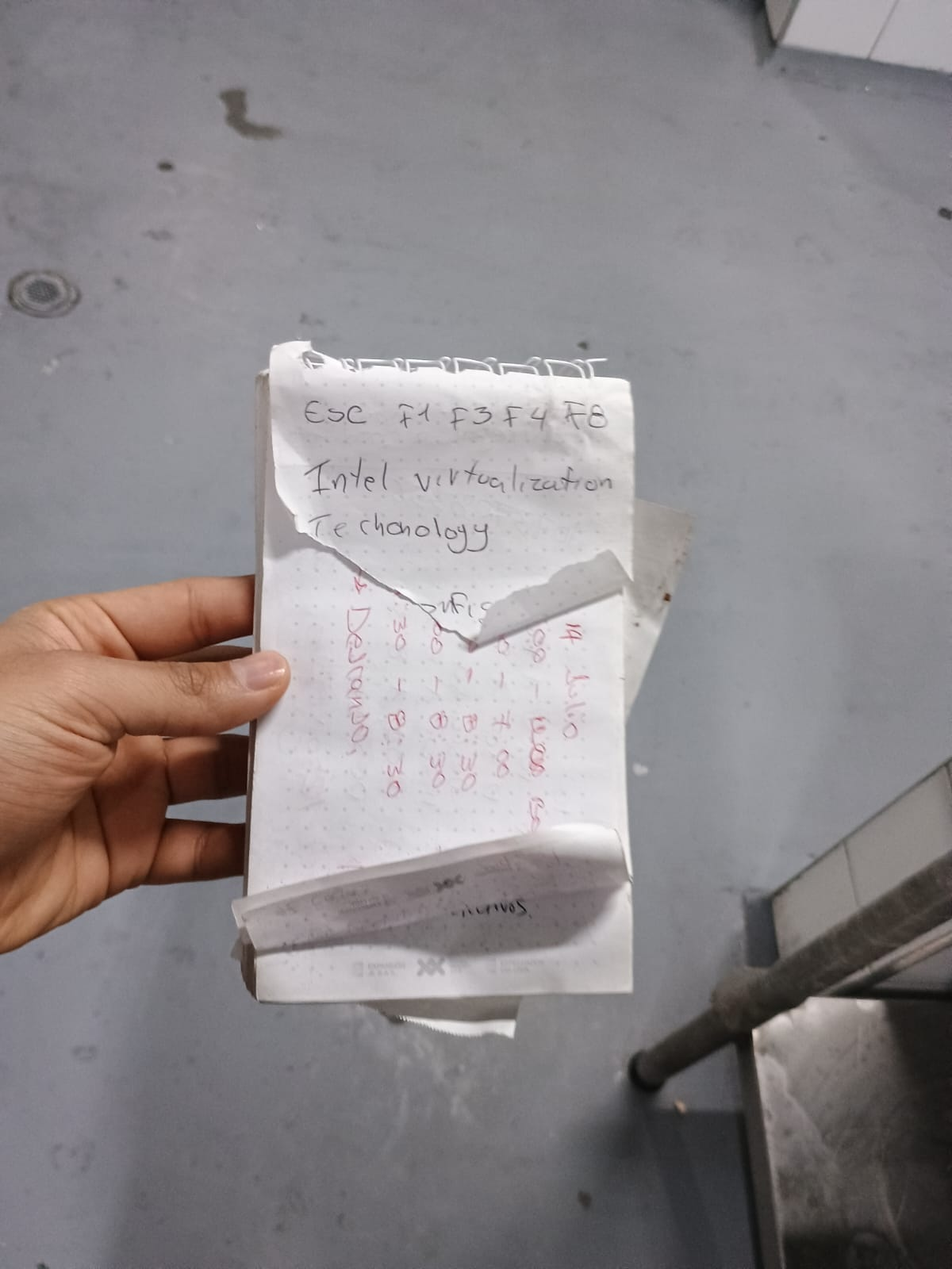Papel: (230, 335, 630, 1041)
